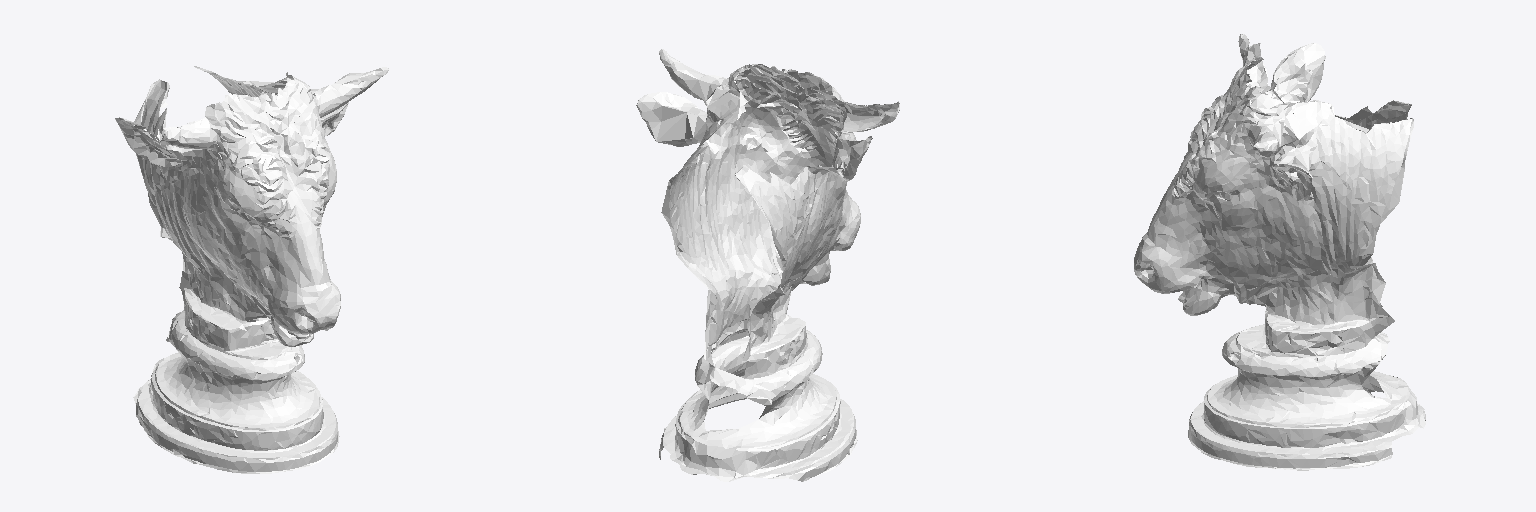
File: DC_Head_of_Bull_Gaetano_Monti_1824.obj
3 renders of one model, left to right at view 1: azimuth 30°, elevation 25°; view 2: azimuth 150°, elevation 25°; view 3: azimuth 270°, elevation 25°, orthographic.
Visible parts, largest first — view 1: Bull_Head_8k_Super_Low_Poly; view 2: Bull_Head_8k_Super_Low_Poly; view 3: Bull_Head_8k_Super_Low_Poly.
Part boxes in pixels (bbox=[...]): Bull_Head_8k_Super_Low_Poly: bbox=[115, 66, 388, 473]; Bull_Head_8k_Super_Low_Poly: bbox=[636, 49, 899, 481]; Bull_Head_8k_Super_Low_Poly: bbox=[1134, 34, 1425, 470].
Size of the model in its own units: 0.8266 by 1.18 by 0.8689.